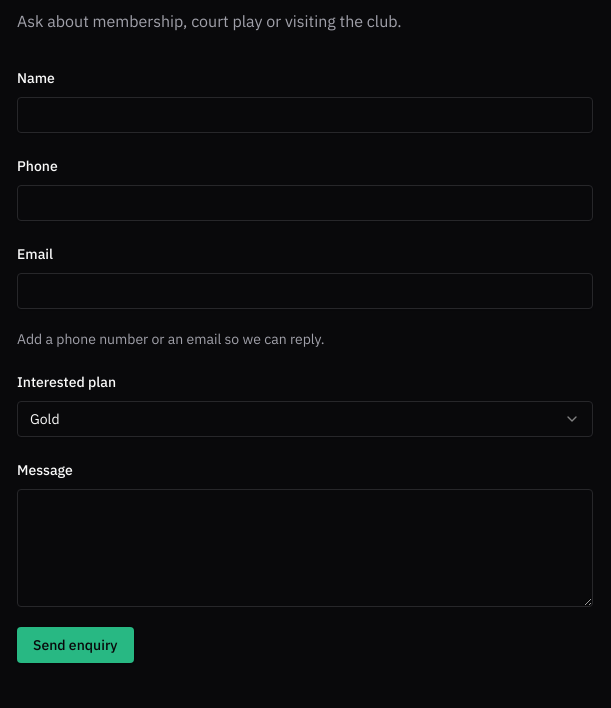
it: Contact enquiry › blocks an empty submission and shows inline errors
(page scrolled)
Click the button "Send enquiry".
click(75, 645)  # box [17,627,134,663]
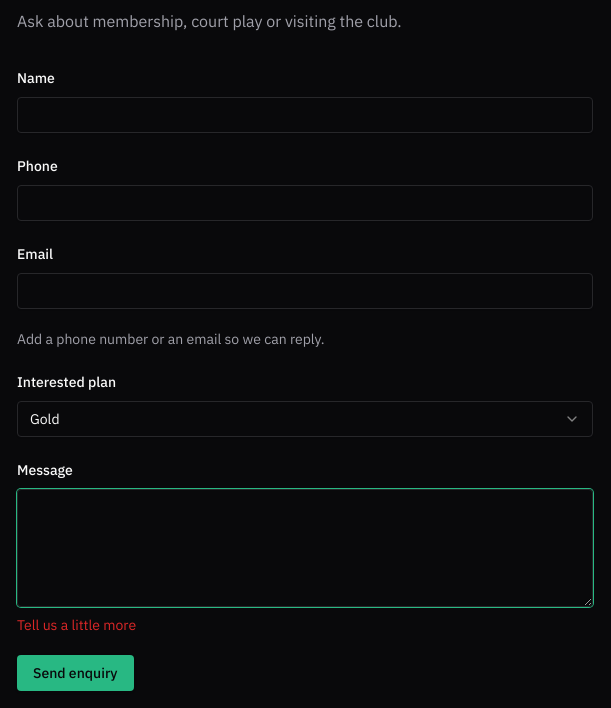
Result: the message "Tell us a little more" is shown at [17,616,136,634]
